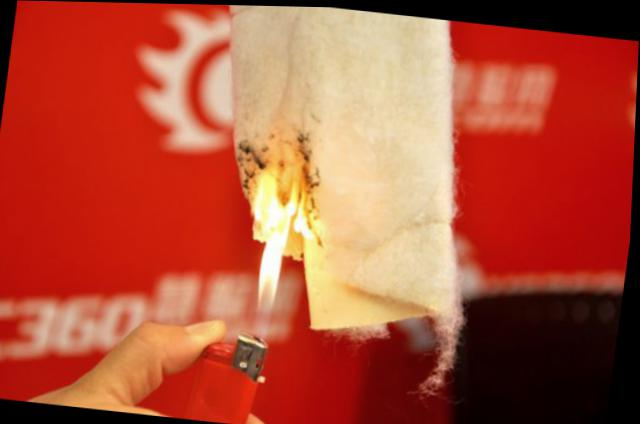fire: (257, 216, 289, 307), (284, 180, 316, 235), (249, 170, 284, 218)
